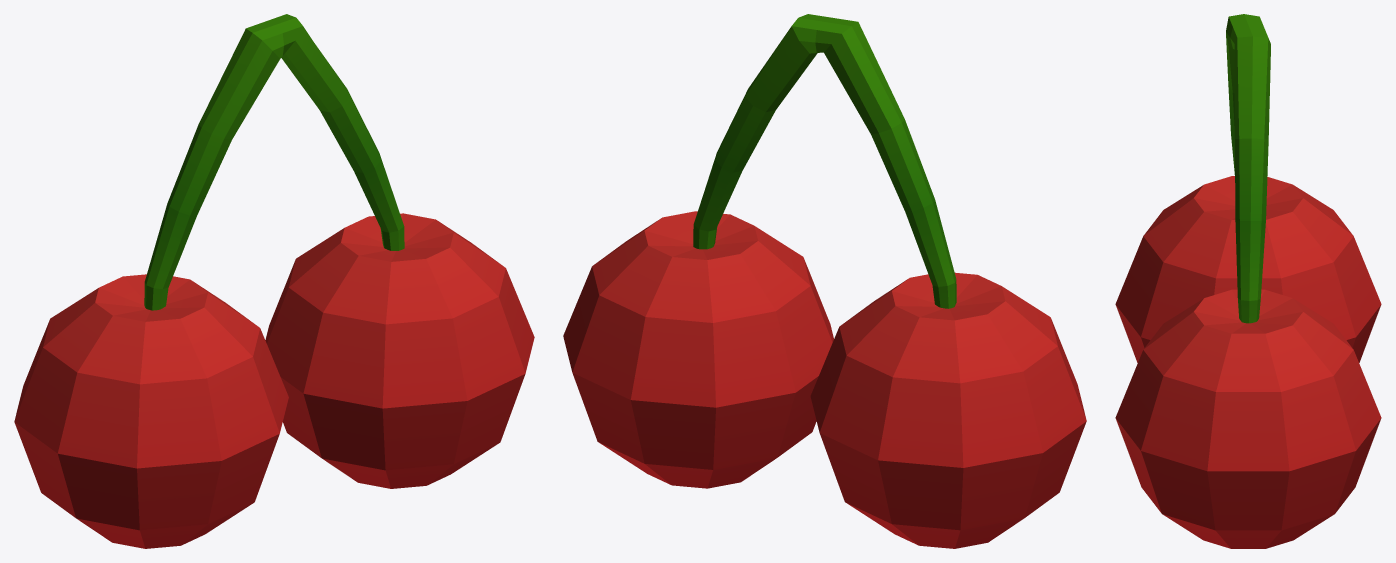
Rendered from cherry_2.glb.
The picture shows the model from 3 angles, left to right: view 1: azimuth 30°, elevation 25°; view 2: azimuth 150°, elevation 25°; view 3: azimuth 270°, elevation 25°; orthographic projection. The views are drawn at different scales.
Visible parts, largest first — view 1: cherry_2; view 2: cherry_2; view 3: cherry_2.
Boxes of the visible parts, x1,y1,x2,y2 form: cherry_2: (14,14,534,548); cherry_2: (563,14,1086,548); cherry_2: (1115,14,1381,548).
Bounding box in the file's own units: 0.0729 × 0.0685 × 0.0372.
1 material, 1 textured.
